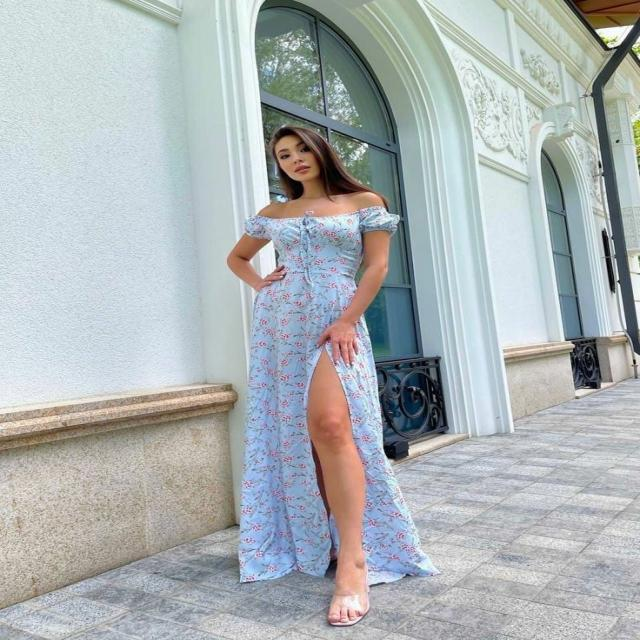female-dress: (232, 216, 424, 588)
